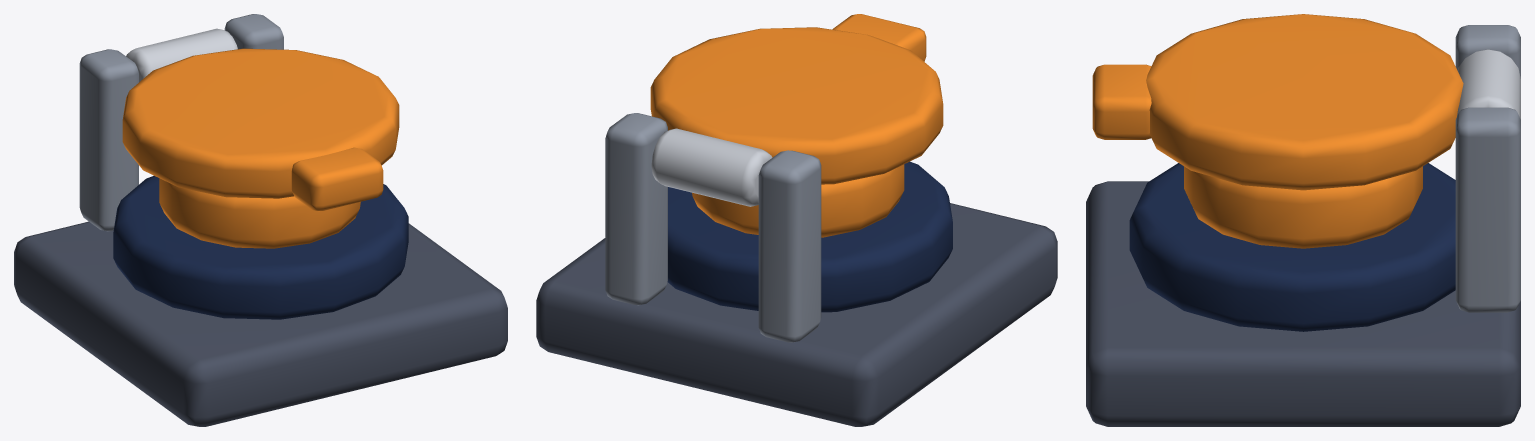
The model's file is Ctrl_Ignite.fbx.
3 renders of one model, left to right at view 1: azimuth 30°, elevation 25°; view 2: azimuth 150°, elevation 25°; view 3: azimuth 270°, elevation 25°, orthographic. The views are drawn at different scales.
Parts seen in each view (by area): view 1: Ctrl_Ignite.Base, Ctrl_Ignite.Move_Cover, Ctrl_Ignite.Collar, Ctrl_Ignite.HingeL, Ctrl_Ignite.Move_Button, Ctrl_Ignite.HingeR; view 2: Ctrl_Ignite.Base, Ctrl_Ignite.Move_Cover, Ctrl_Ignite.Collar, Ctrl_Ignite.HingeL, Ctrl_Ignite.HingeR, Ctrl_Ignite.Move_Button; view 3: Ctrl_Ignite.Base, Ctrl_Ignite.Move_Cover, Ctrl_Ignite.Collar, Ctrl_Ignite.HingeR, Ctrl_Ignite.Move_Button, Ctrl_Ignite.HingeL.
Boxes of the visible parts, x1,y1,x2,y2 form: Ctrl_Ignite.Base: (14, 221, 507, 426); Ctrl_Ignite.Move_Cover: (122, 28, 399, 211); Ctrl_Ignite.Collar: (113, 176, 408, 319); Ctrl_Ignite.HingeL: (79, 49, 138, 231); Ctrl_Ignite.Move_Button: (159, 178, 360, 248); Ctrl_Ignite.HingeR: (224, 14, 283, 49); Ctrl_Ignite.Base: (536, 203, 1057, 426); Ctrl_Ignite.Move_Cover: (650, 14, 943, 206); Ctrl_Ignite.Collar: (667, 161, 952, 312); Ctrl_Ignite.HingeL: (758, 150, 821, 342); Ctrl_Ignite.HingeR: (605, 113, 667, 305); Ctrl_Ignite.Move_Button: (692, 164, 904, 237); Ctrl_Ignite.Base: (1086, 181, 1520, 426); Ctrl_Ignite.Move_Cover: (1092, 14, 1520, 190); Ctrl_Ignite.Collar: (1129, 163, 1455, 331); Ctrl_Ignite.HingeR: (1455, 107, 1520, 312); Ctrl_Ignite.Move_Button: (1184, 166, 1422, 248); Ctrl_Ignite.HingeL: (1455, 25, 1520, 78).
Size of the model in its own units: 0.2 by 0.1375 by 0.2.
Materials: 1 (1 with a texture image).
